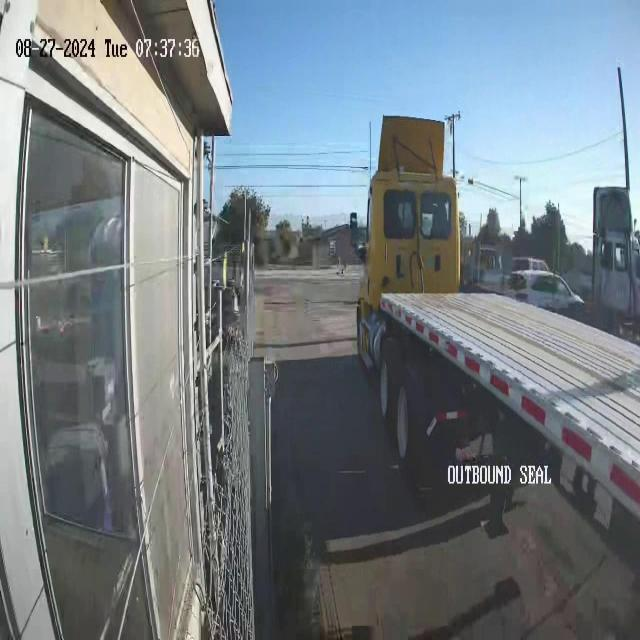BOBTAIL: (347, 112, 640, 540)
